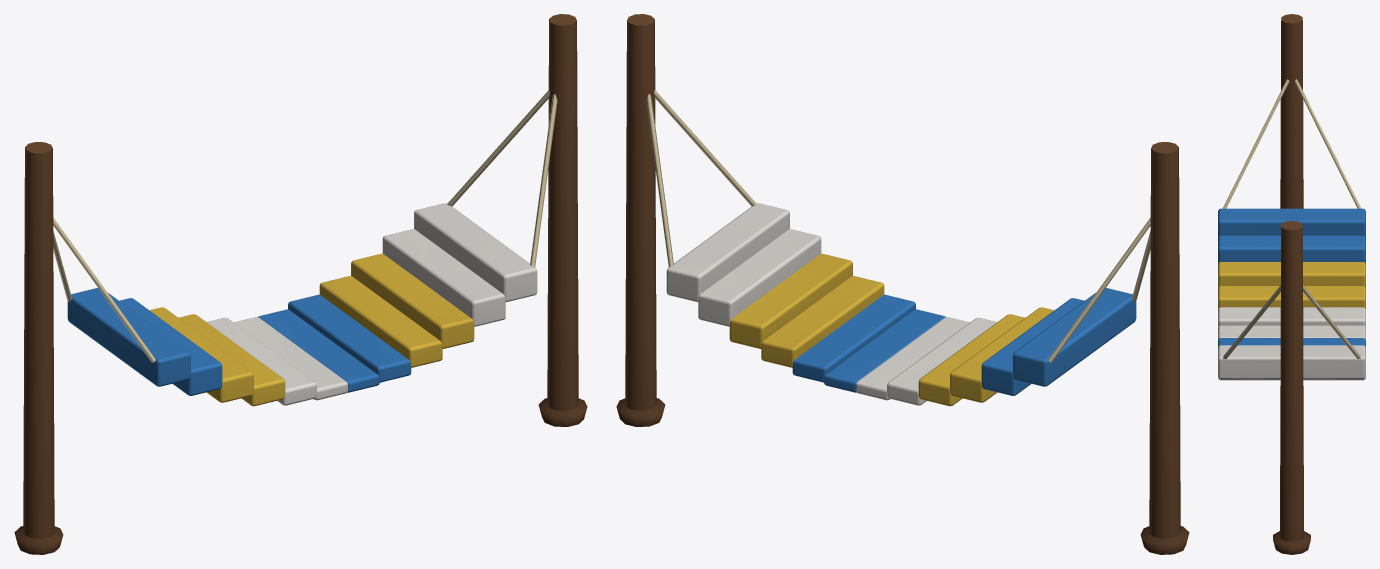
File: furn_hammock.glb
The picture shows the model from 3 angles, left to right: view 1: azimuth 30°, elevation 25°; view 2: azimuth 150°, elevation 25°; view 3: azimuth 270°, elevation 25°; orthographic projection. The views are drawn at different scales.
Parts seen in each view (by area): view 1: furn_hammock_main; view 2: furn_hammock_main; view 3: furn_hammock_main.
Part boxes in pixels (x1,y1,x2,y2): furn_hammock_main: (14, 14, 587, 554); furn_hammock_main: (616, 14, 1189, 554); furn_hammock_main: (1218, 14, 1365, 554).
Size of the model in its own units: 1.86 by 1.25 by 0.52.
